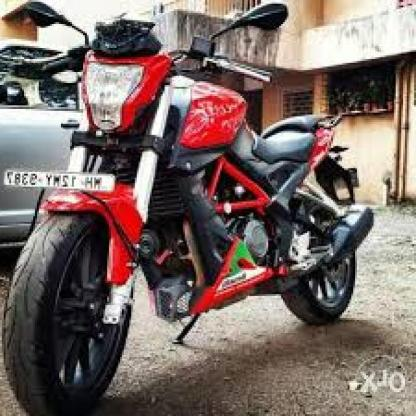bike: (0, 2, 375, 416)
